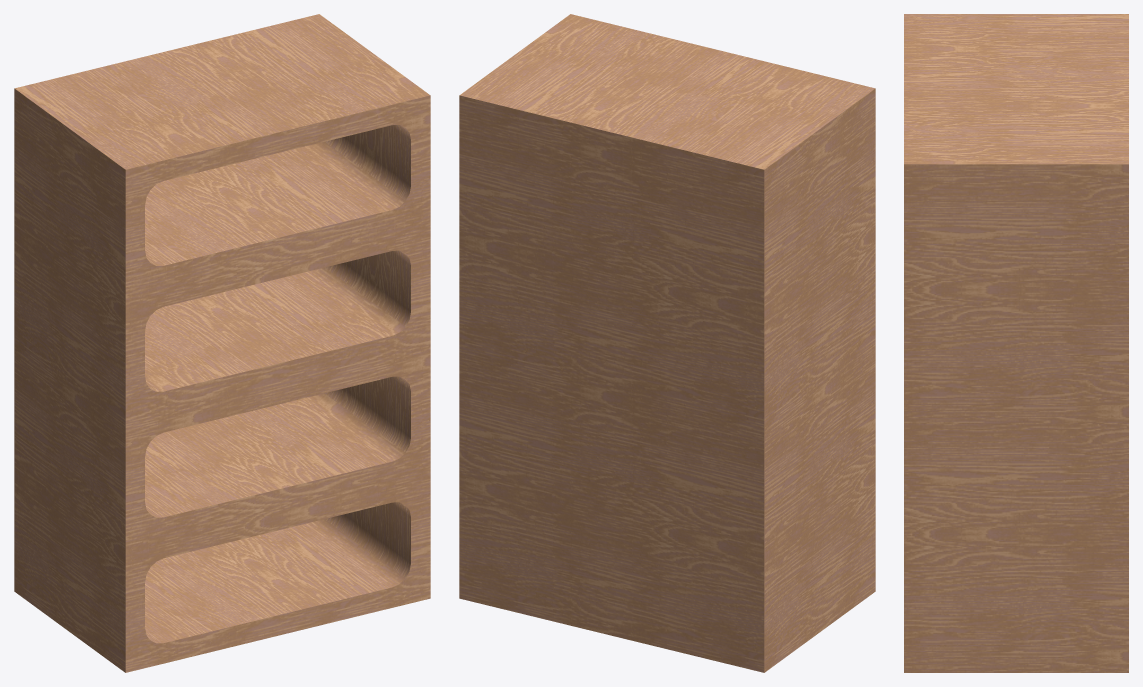
Rendered from Shelf.fbx.
The picture shows the model from 3 angles, left to right: view 1: azimuth 30°, elevation 25°; view 2: azimuth 150°, elevation 25°; view 3: azimuth 270°, elevation 25°; orthographic projection.
Parts seen in each view (by area): view 1: Cube; view 2: Cube; view 3: Cube.
Part boxes in pixels (<box>): Cube: <box>14,14,430,672</box>; Cube: <box>459,14,875,672</box>; Cube: <box>904,14,1128,672</box>.
Bounding box in the file's own units: 200 × 315 × 126.
